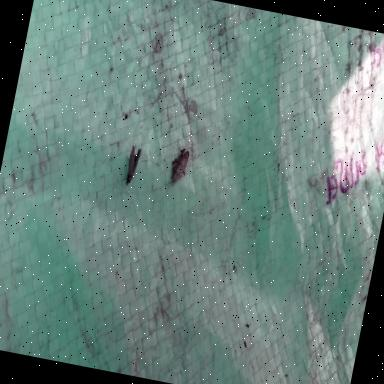pbw: (120, 142, 144, 188), (169, 148, 190, 184)
